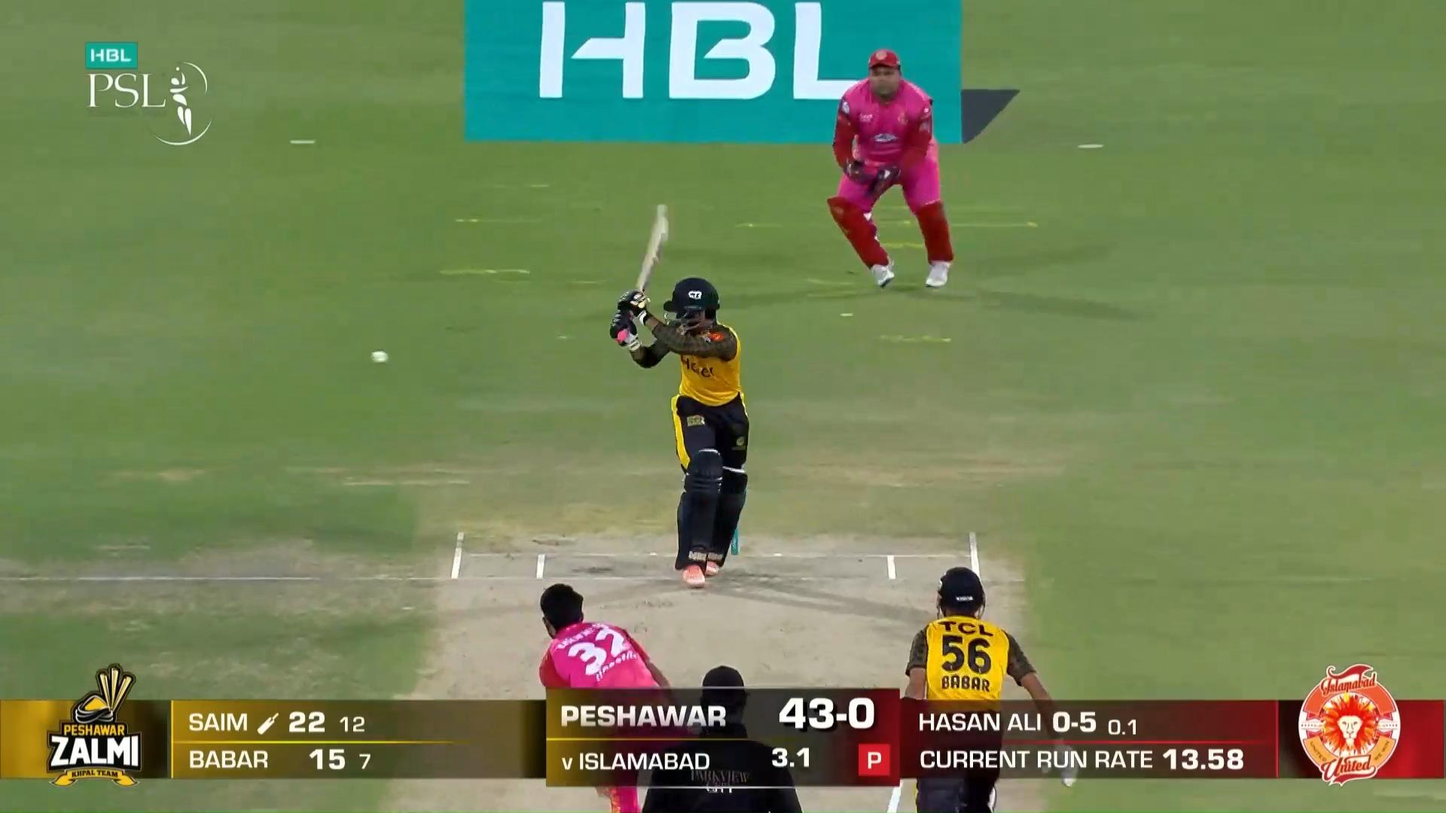batsman: (614, 198, 751, 592)
